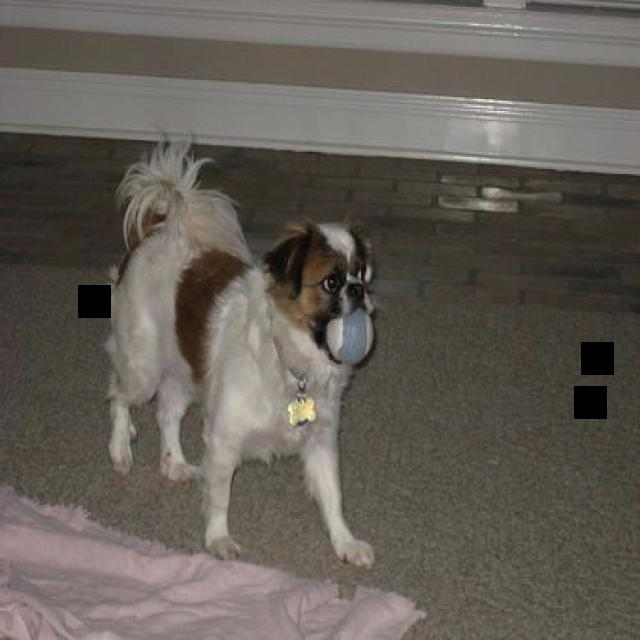adult_dog: (97, 139, 378, 568)
